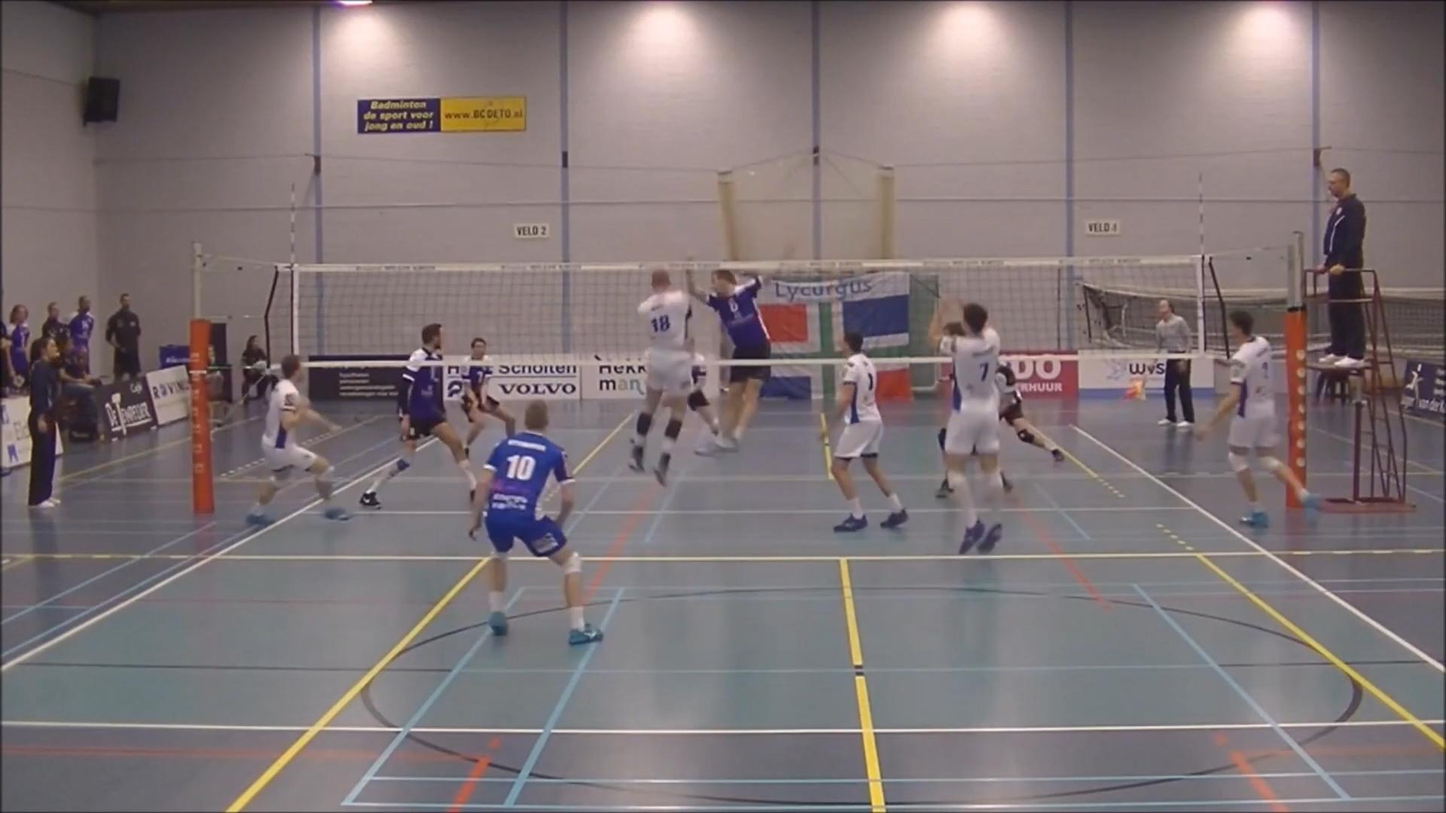attacco: (611, 262, 710, 484)
